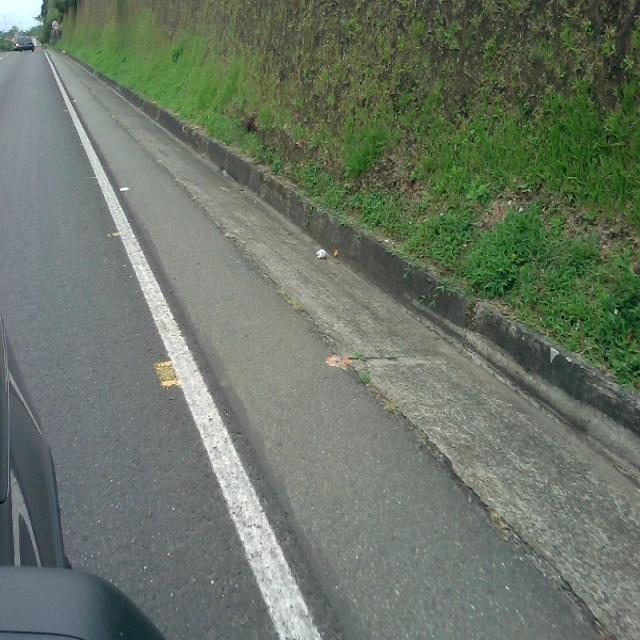DITCH: (39, 46, 638, 638)
